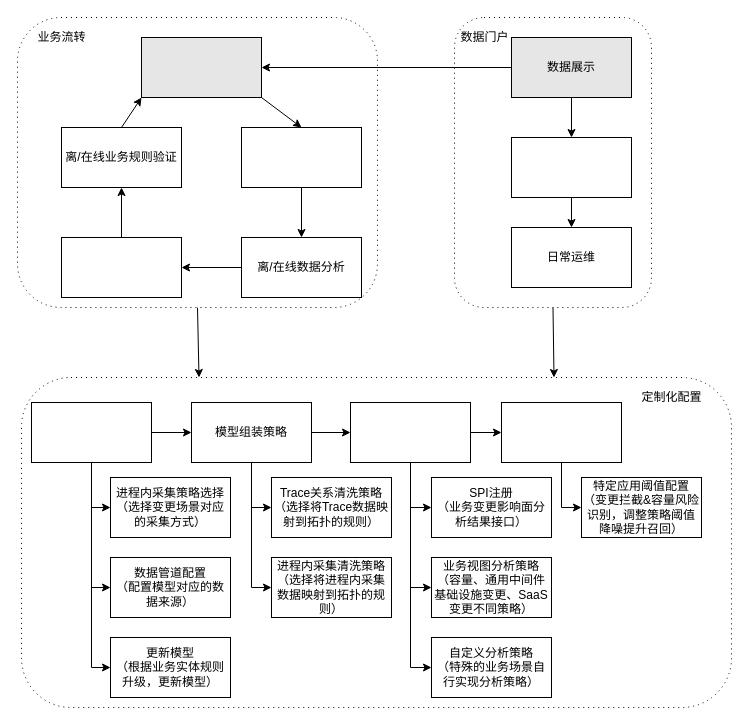
Some shapes in this 749 by 725 pixel diagram are drawn without their labels. Each missing label, with the centre of its shape:
"业务结果汇总展示" belongs at (201,67).
"影响面分析策略" belongs at (410,432).
"效果评估/打标" belongs at (301,157).
"数据拉取规则" belongs at (91,432).
"模型展示" belongs at (571,167).
"结论决策策略" belongs at (561,432).
"规则更新" belongs at (121,267).
